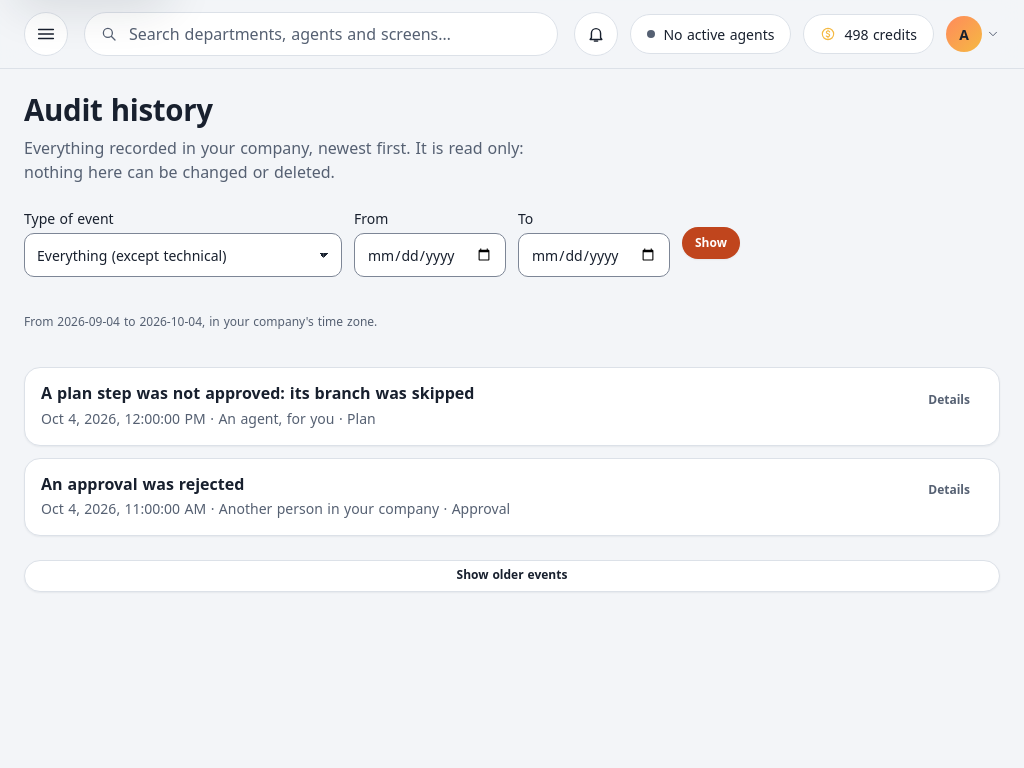
Test: The audit history (ADR-0147) › loads older events a page at a time with the API’s cursor
The width and height of the screenshot is (1024, 768).
Expected: the number of list items is 2, [24, 367, 1000, 446]; [24, 458, 1000, 536]
Click the button "Show older events".
click(512, 576)  # box [24, 560, 1000, 592]
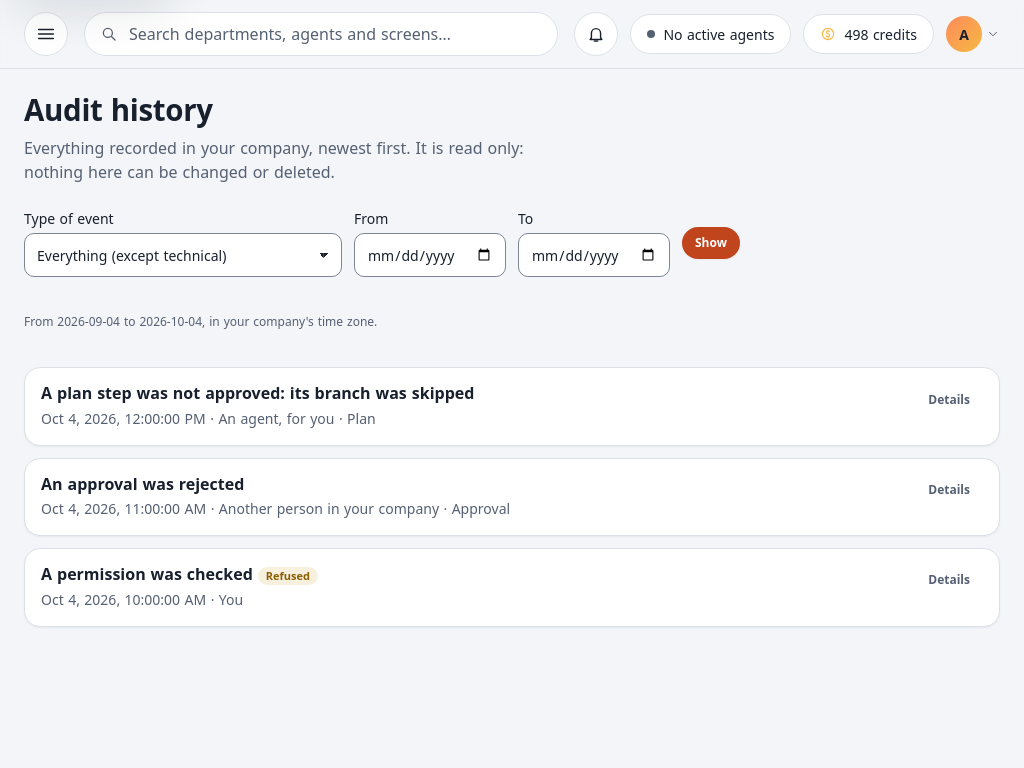
Expected: the text "A permission was checked Refused" is shown, [41, 563, 318, 585]
Expected: the number of list items is 3, [24, 367, 1000, 446]; [24, 458, 1000, 536]; [24, 548, 1000, 627]
Expected: the button "Show older events" is gone
